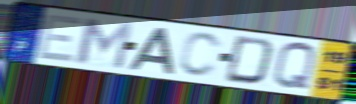A: (126, 26, 176, 76)
C: (177, 30, 224, 79)
D: (222, 34, 277, 87)
E: (35, 13, 85, 64)
M: (75, 16, 136, 71)
Q: (271, 40, 318, 93)
